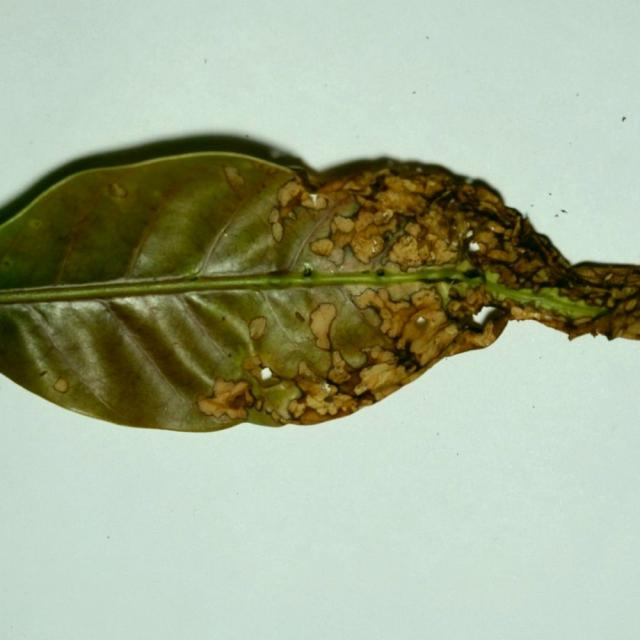Anthracnose: (392, 293, 460, 362), (351, 286, 395, 320), (357, 361, 399, 392), (349, 227, 385, 263), (240, 354, 279, 385), (376, 186, 422, 212), (245, 316, 271, 352), (316, 176, 364, 195), (330, 225, 359, 254), (276, 180, 304, 209), (409, 287, 442, 311), (304, 391, 337, 414), (429, 237, 456, 263), (353, 210, 380, 235), (222, 165, 246, 193), (211, 377, 239, 400), (471, 230, 500, 252), (330, 349, 351, 379), (300, 192, 330, 211), (308, 237, 335, 258), (509, 304, 542, 321), (446, 298, 472, 319), (296, 360, 319, 383), (606, 285, 631, 302), (287, 398, 308, 418), (358, 194, 384, 210), (404, 221, 423, 240), (108, 181, 128, 199), (271, 219, 284, 243), (314, 333, 331, 350), (52, 377, 70, 393), (486, 221, 506, 234), (369, 345, 385, 361), (448, 286, 464, 301), (353, 382, 368, 395), (268, 208, 279, 225), (266, 165, 279, 177), (294, 311, 306, 323), (254, 398, 264, 412), (428, 252, 437, 261)
